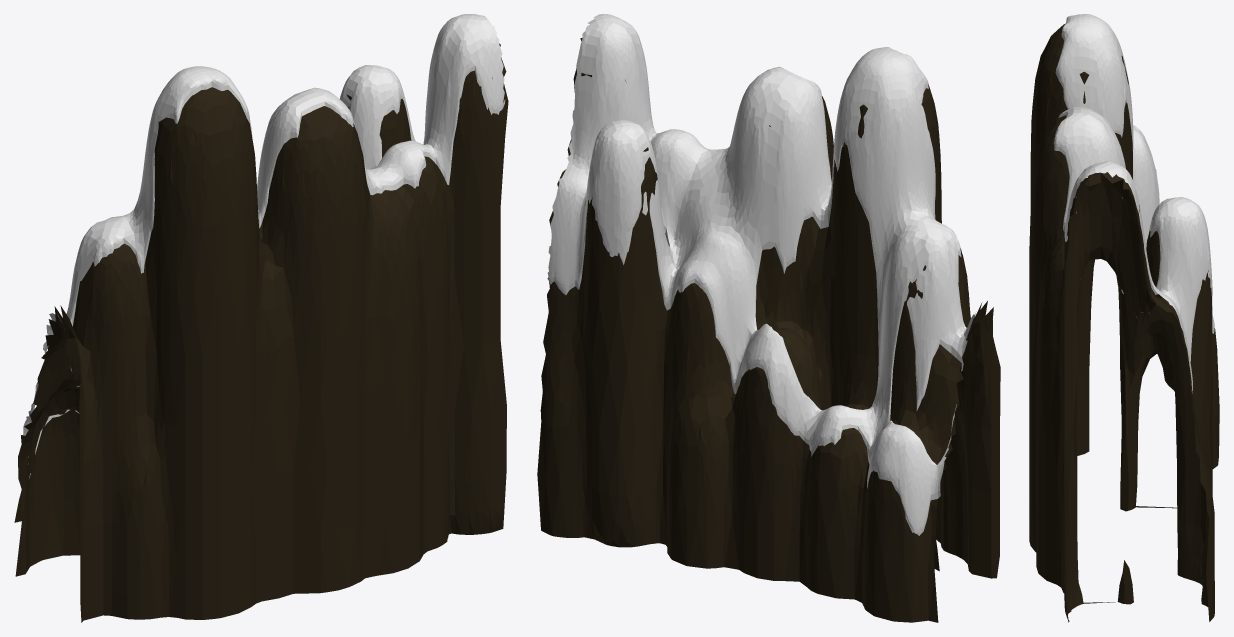
Rendered from Mtn_Wall_S1_M.fbx.
The picture shows the model from 3 angles, left to right: view 1: azimuth 30°, elevation 25°; view 2: azimuth 150°, elevation 25°; view 3: azimuth 270°, elevation 25°; orthographic projection. The views are drawn at different scales.
Parts seen in each view (by area): view 1: Mtn_Wall_S1_M; view 2: Mtn_Wall_S1_M; view 3: Mtn_Wall_S1_M.
Boxes of the visible parts, box(x1,y1,x2,y2) form: Mtn_Wall_S1_M: box(14, 14, 508, 622); Mtn_Wall_S1_M: box(537, 14, 1000, 622); Mtn_Wall_S1_M: box(1029, 14, 1219, 622).
Bounding box in the file's own units: 21773 × 25898 × 9423.
